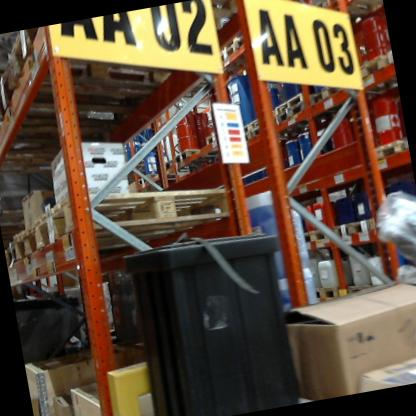pallet: (33, 161, 239, 267), (4, 7, 174, 111), (0, 66, 67, 135), (11, 223, 42, 257), (270, 87, 308, 111), (373, 139, 409, 160), (309, 81, 345, 102), (278, 103, 309, 125), (302, 223, 332, 244), (360, 54, 386, 77), (346, 0, 383, 16), (332, 218, 357, 240), (313, 280, 340, 300), (354, 213, 377, 236), (239, 115, 265, 131), (245, 127, 265, 140), (386, 49, 393, 65)
